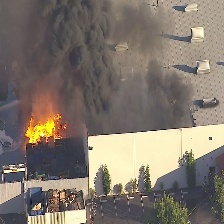fire: (18, 109, 67, 145)
smoke: (3, 1, 187, 114)
